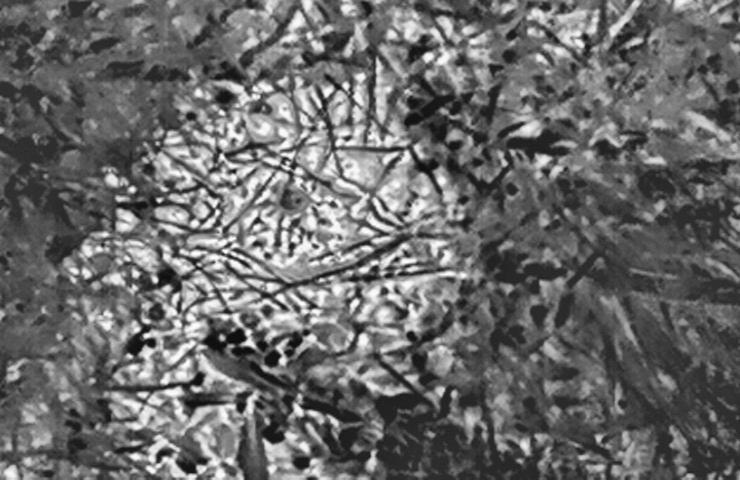landmines: (108, 63, 477, 407)
